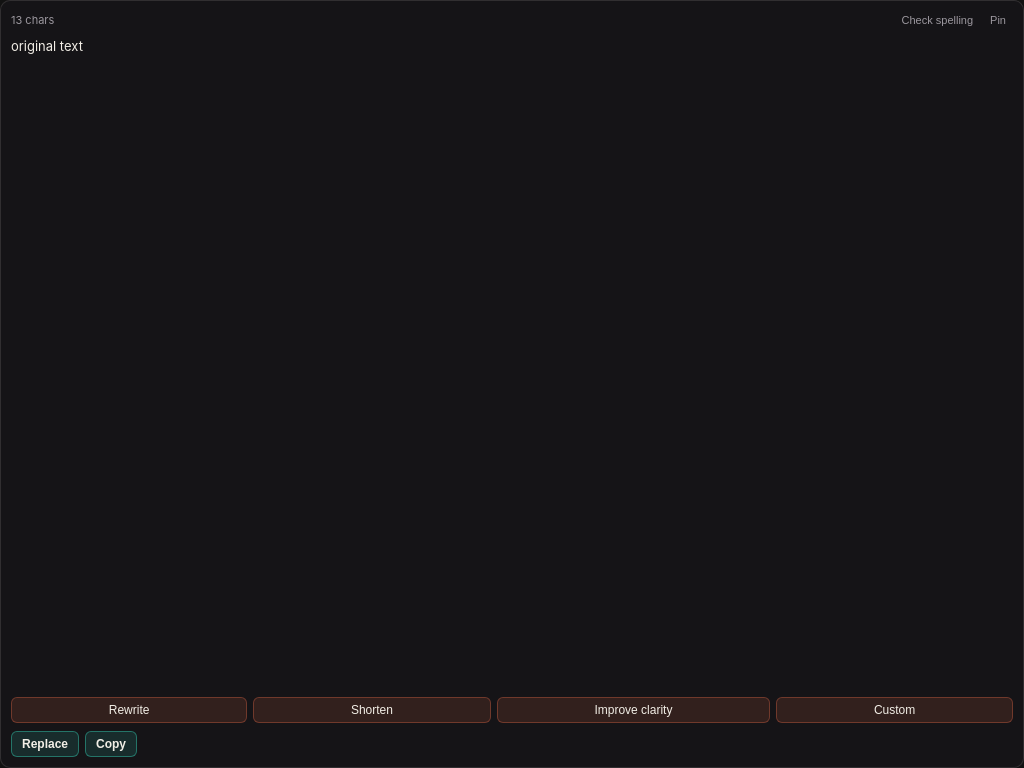
Scenario: popover App › a rejected replace_back shows the error and does not hide the popover
Step 1. Click the button "Replace" → (45, 744), box [11,731,79,757]
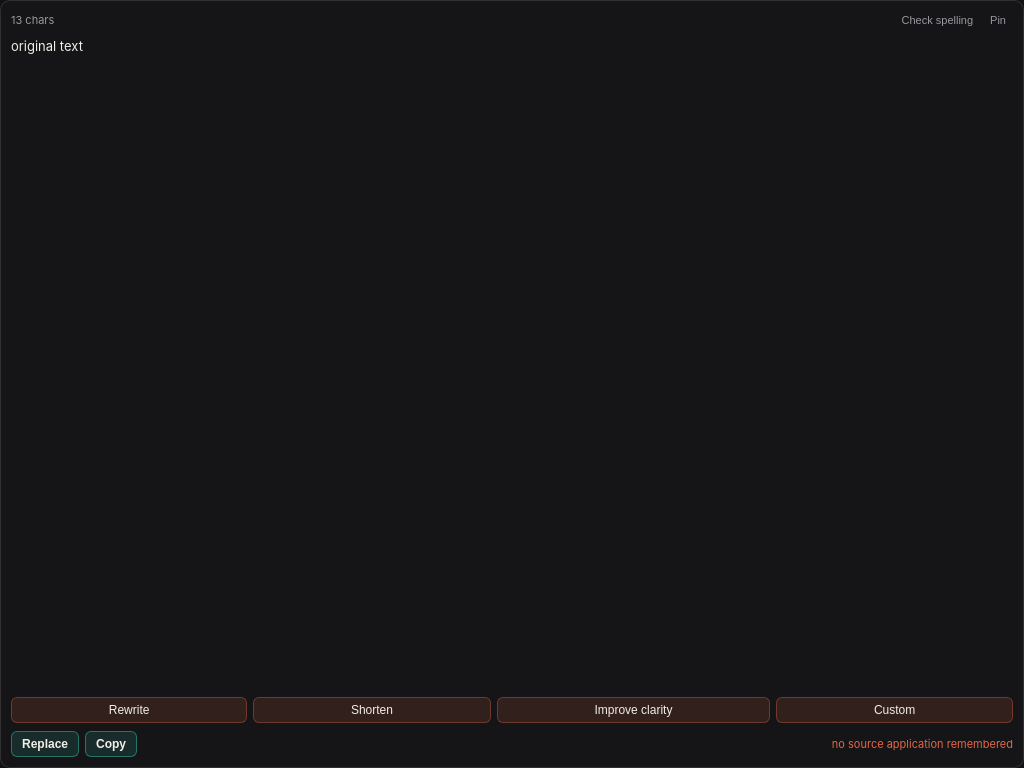
Expected: the text "no source application remembered" is shown, [832,737,1013,751]
